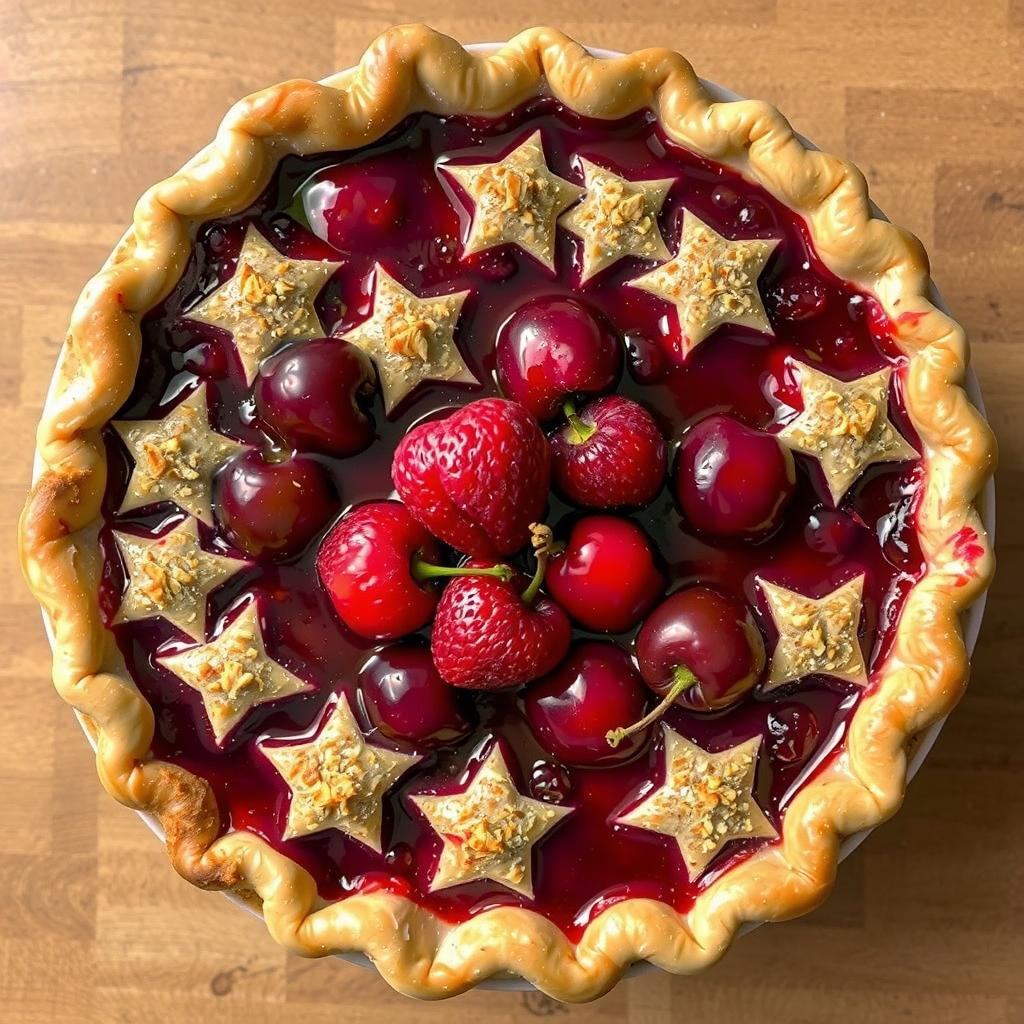pie: (14, 21, 997, 1004)
